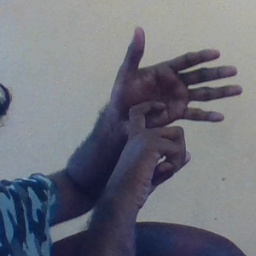R: (100, 23, 243, 180)
